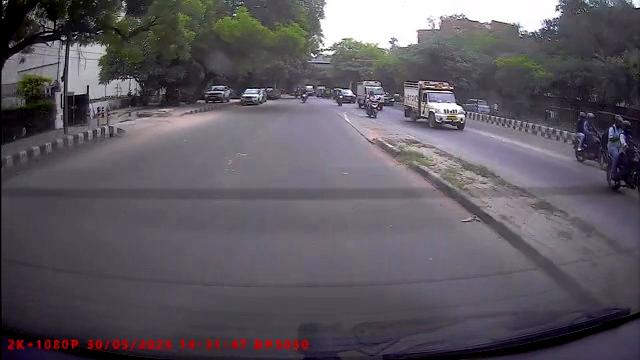passenger_with_helmet: (604, 113, 640, 199), (573, 111, 604, 168)
